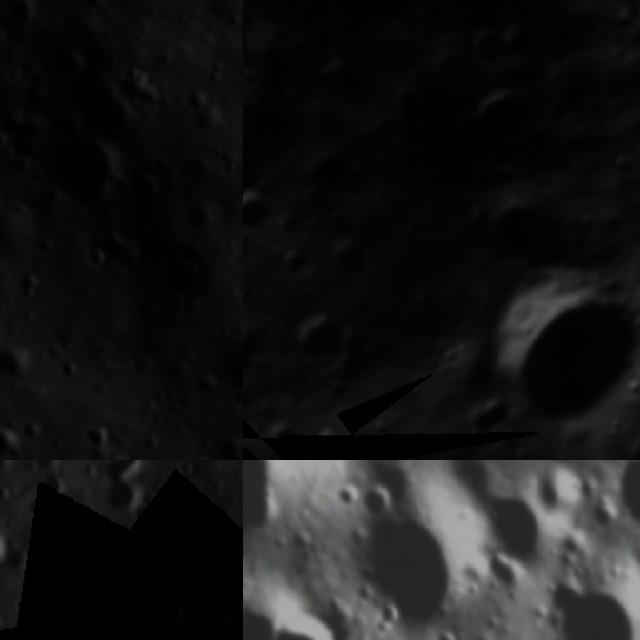crater: (456, 231, 640, 459), (353, 30, 556, 222), (326, 475, 486, 640), (466, 467, 584, 582), (49, 40, 150, 150), (243, 460, 323, 577), (532, 559, 640, 640), (282, 302, 368, 390), (76, 460, 167, 533), (46, 134, 122, 221), (317, 225, 385, 288), (154, 241, 218, 306), (314, 51, 380, 114), (596, 460, 640, 550), (524, 462, 586, 518), (262, 601, 348, 640), (243, 178, 289, 246), (252, 408, 312, 460), (460, 17, 517, 71), (500, 48, 554, 102), (349, 468, 400, 524), (268, 238, 322, 290), (123, 587, 171, 640), (122, 164, 165, 212), (179, 194, 225, 233), (0, 336, 37, 384), (32, 462, 72, 506), (1, 0, 41, 39), (0, 510, 16, 577), (82, 426, 116, 452), (0, 423, 22, 460), (159, 623, 203, 640), (231, 102, 243, 145), (189, 452, 218, 460)
